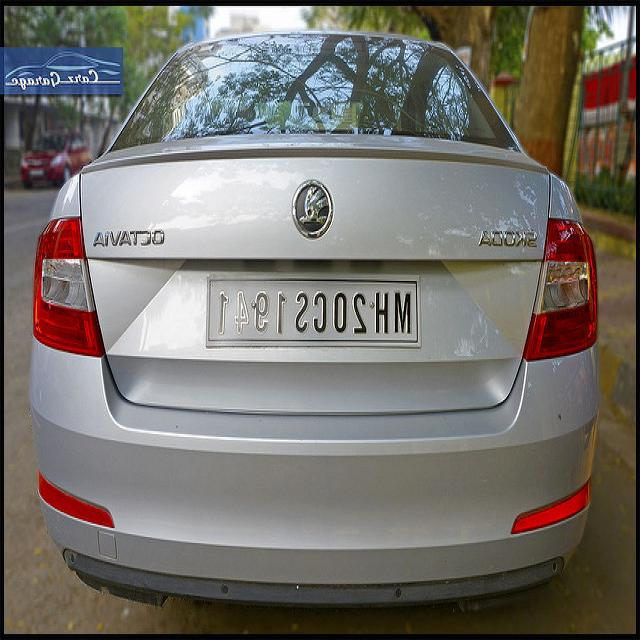license_plate: (200, 263, 427, 358)
